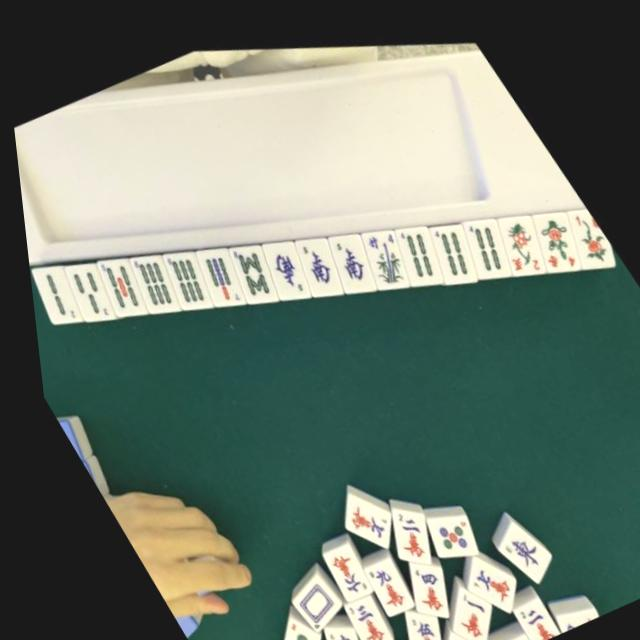bf4: (347, 209, 423, 289)
bs1: (553, 187, 621, 262)
bs2: (479, 190, 560, 273)
bs4: (512, 184, 595, 272)
hws: (280, 220, 352, 297), (251, 228, 322, 301), (314, 216, 384, 288)
sb2: (24, 257, 91, 327)
sb3: (55, 254, 124, 326)
sb4: (444, 196, 522, 277), (377, 204, 455, 285), (414, 203, 486, 279)
sb5: (81, 243, 157, 321)
sb6: (112, 236, 192, 320), (147, 234, 223, 314)
sb7: (181, 231, 257, 310)
sb8: (212, 226, 290, 307)
